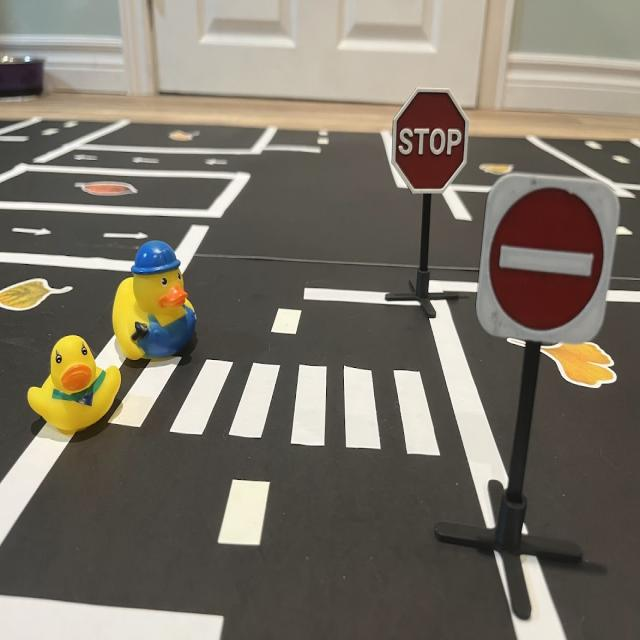duck_regular: (28, 336, 121, 437)
duck_specialty: (112, 242, 198, 368)
road_crosswalk: (102, 354, 449, 462)
road_oneway: (100, 224, 149, 246), (10, 222, 53, 243), (130, 156, 162, 171), (74, 152, 102, 166), (203, 158, 232, 169)
sign_noentry: (477, 173, 621, 348)
sign_stop: (393, 92, 469, 200)
